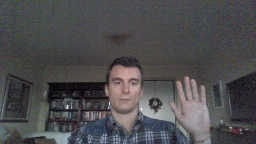Mano_aperta: (166, 73, 213, 138)
